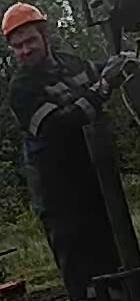gloves: (96, 49, 139, 87)
helmet: (0, 2, 47, 36)
vest: (7, 57, 106, 217)
